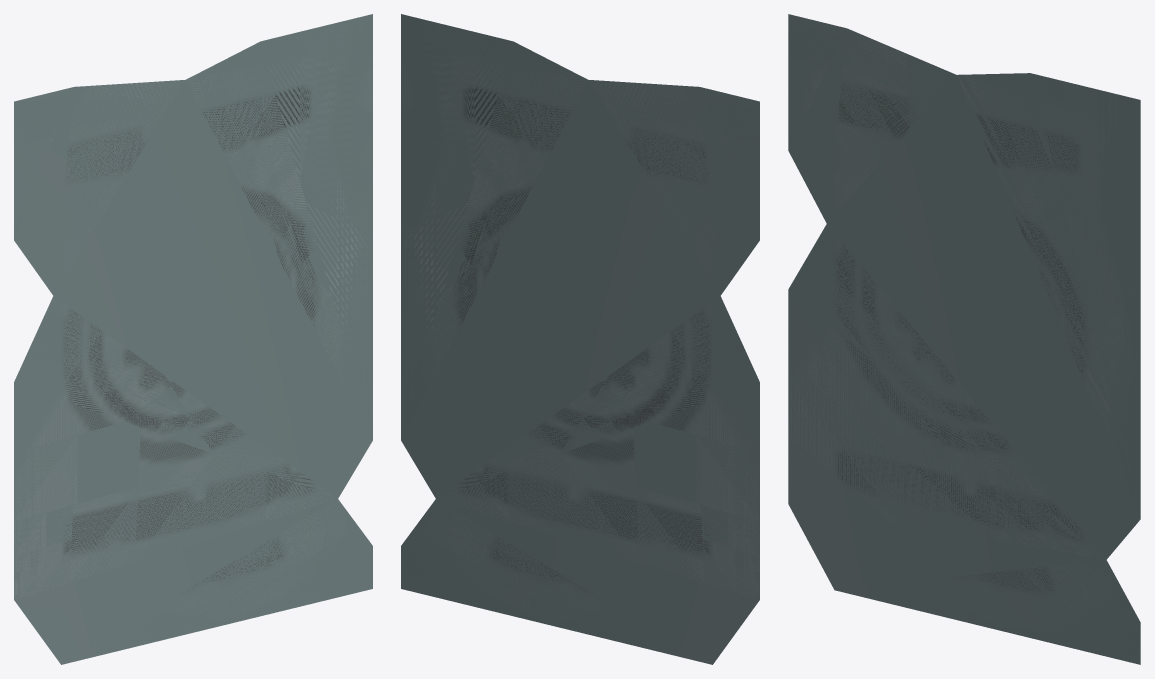
File: SM_Prop_Sign_Poster_10.fbx
The picture shows the model from 3 angles, left to right: view 1: azimuth 30°, elevation 25°; view 2: azimuth 150°, elevation 25°; view 3: azimuth 330°, elevation 25°; orthographic projection.
Visible parts, largest first — view 1: SM_Prop_Sign_Poster_10; view 2: SM_Prop_Sign_Poster_10; view 3: SM_Prop_Sign_Poster_10.
Part boxes in pixels (x1,y1,x2,y2): SM_Prop_Sign_Poster_10: [14, 14, 372, 664]; SM_Prop_Sign_Poster_10: [401, 14, 759, 664]; SM_Prop_Sign_Poster_10: [788, 14, 1140, 664].
Size of the model in its own units: 41.46 by 63.51 by 0.
